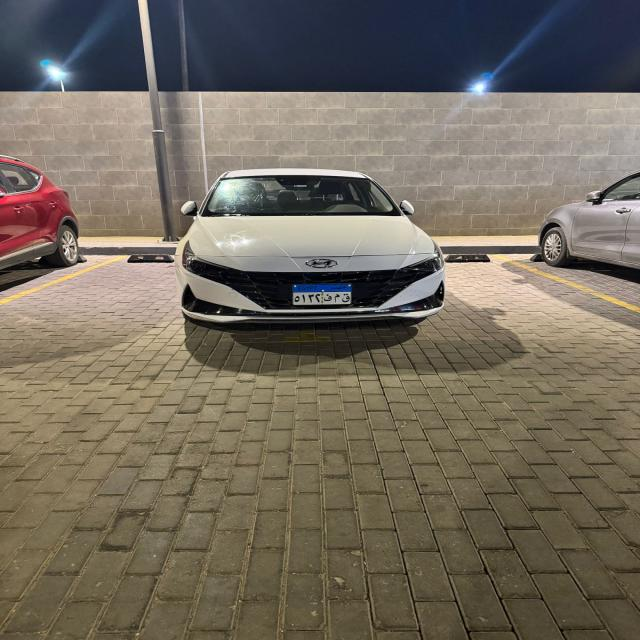car-plate: (294, 286, 351, 304)
